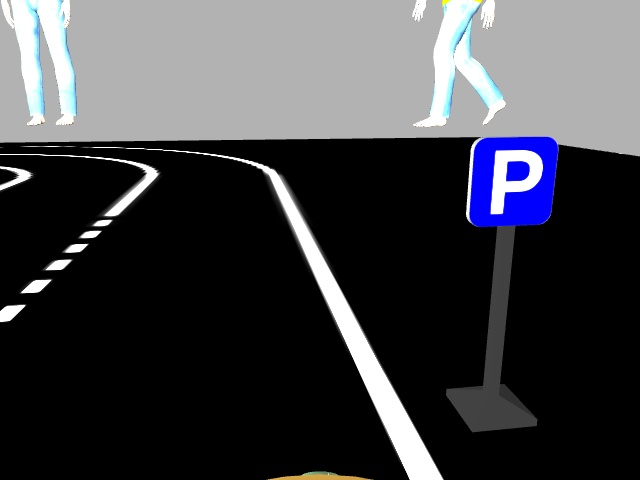Parking: (462, 136, 556, 227)
